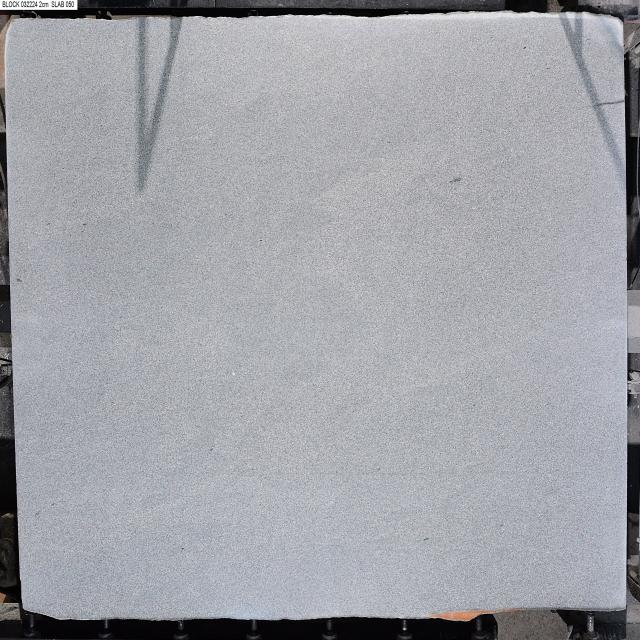chapa: (5, 14, 628, 619)
